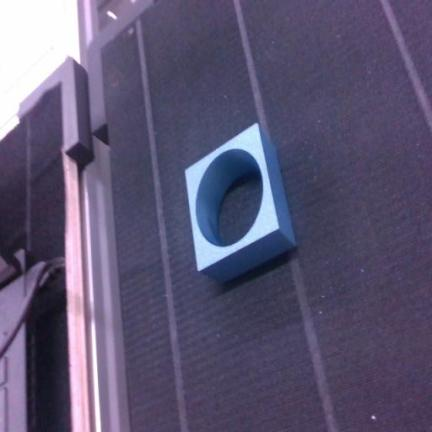hole: (186, 124, 295, 282)
